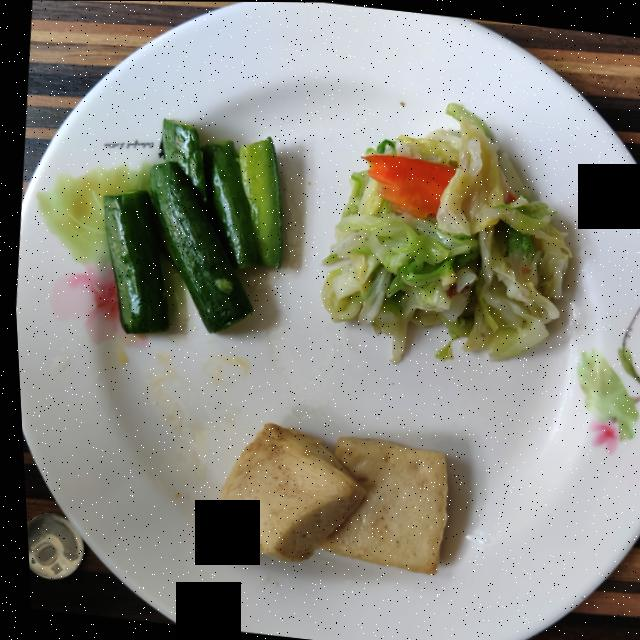cabbage: (319, 102, 567, 361)
coin: (21, 511, 78, 579)
creamy tofu -without sauce-: (201, 422, 442, 572)
cucumber: (101, 118, 279, 332)
